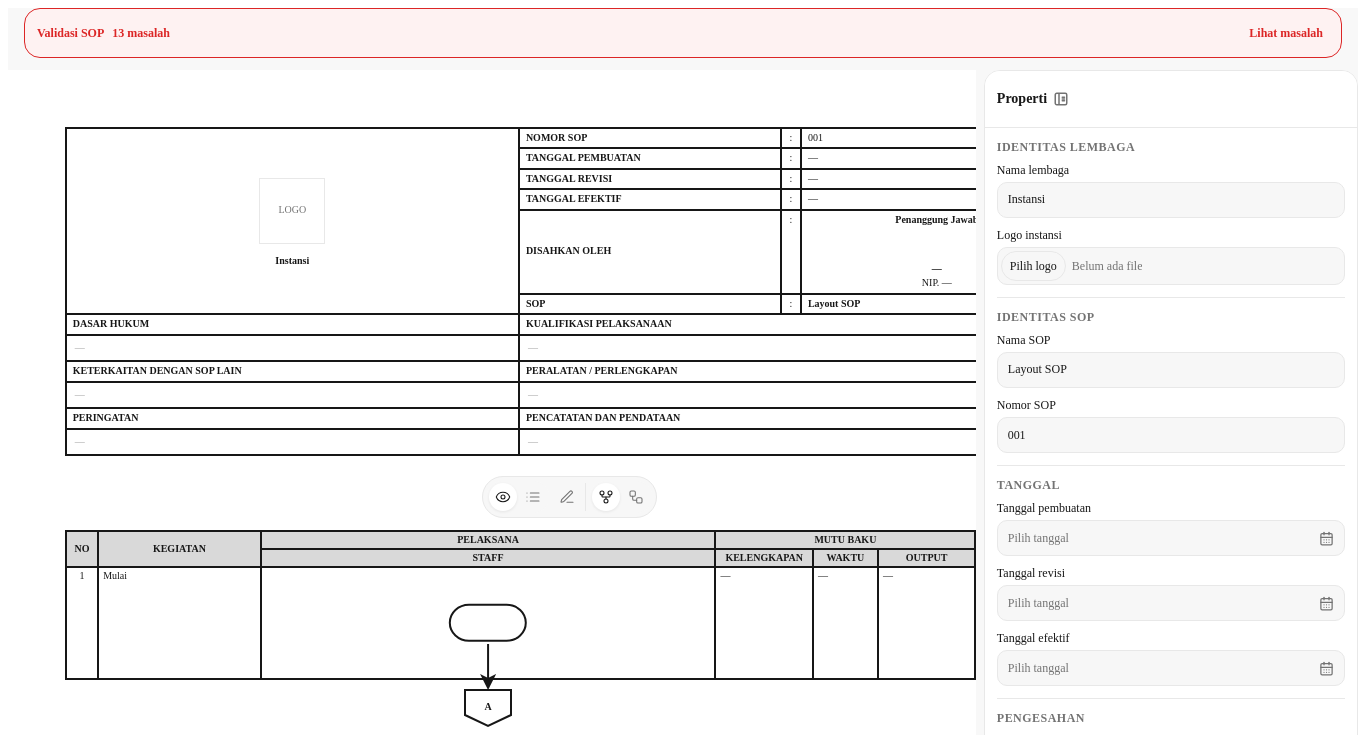
Scenario: SopEditor default composition › closes and reopens the property inspector without removing the document
Click the button named "Tutup panel properti" at coordinates (1061, 99), box [1047,83,1075,115]
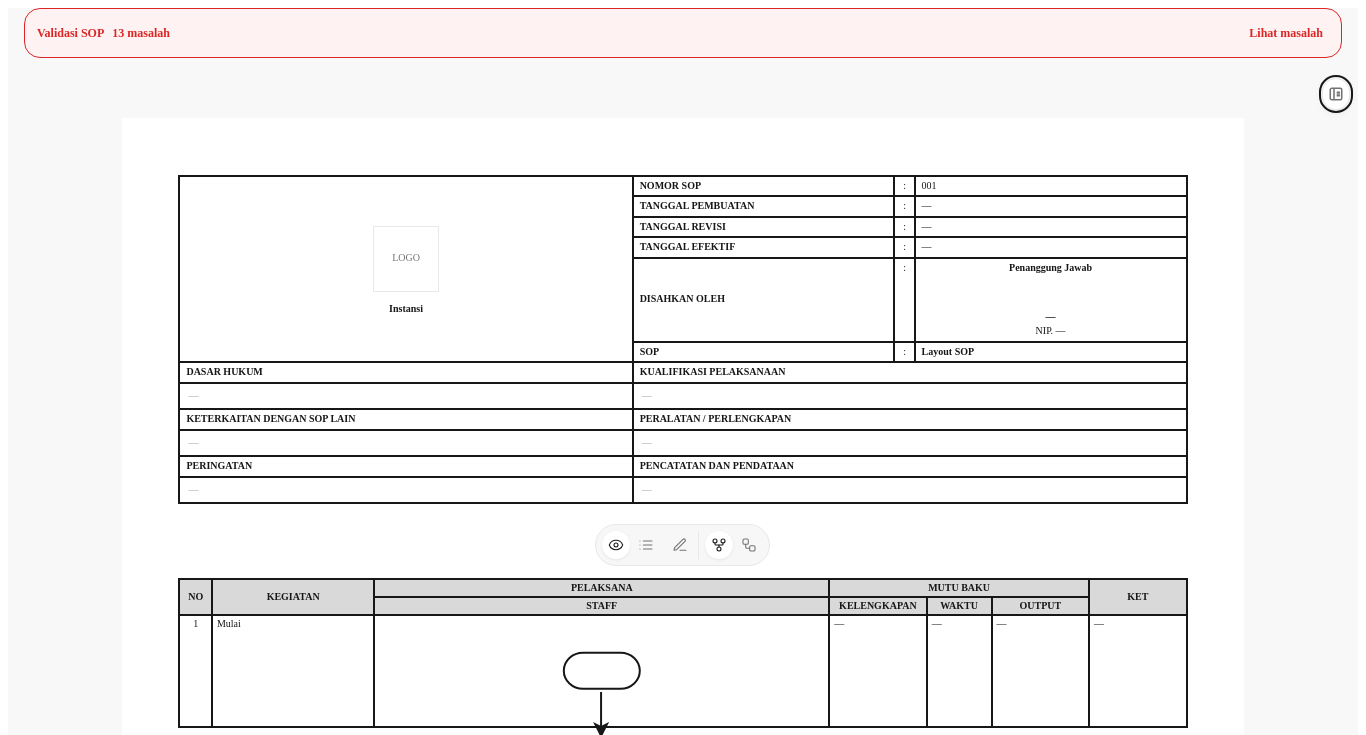
Expected: the element that starts with "LOGO" is shown, [178,175,1188,504]
Click the button named "Buka panel properti" at coordinates (1336, 94), box [1322,78,1350,110]
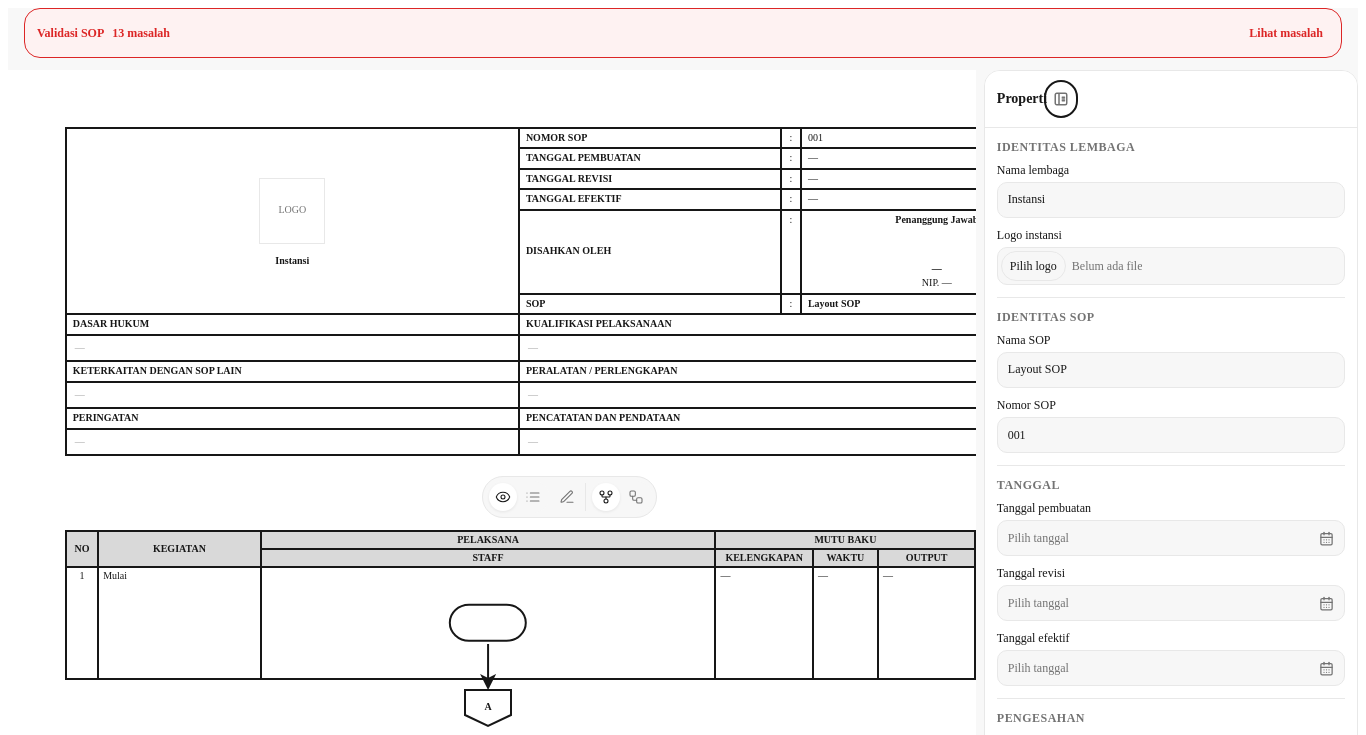
Result: the field named "Nomor SOP" is shown at [997,417,1345,453]
